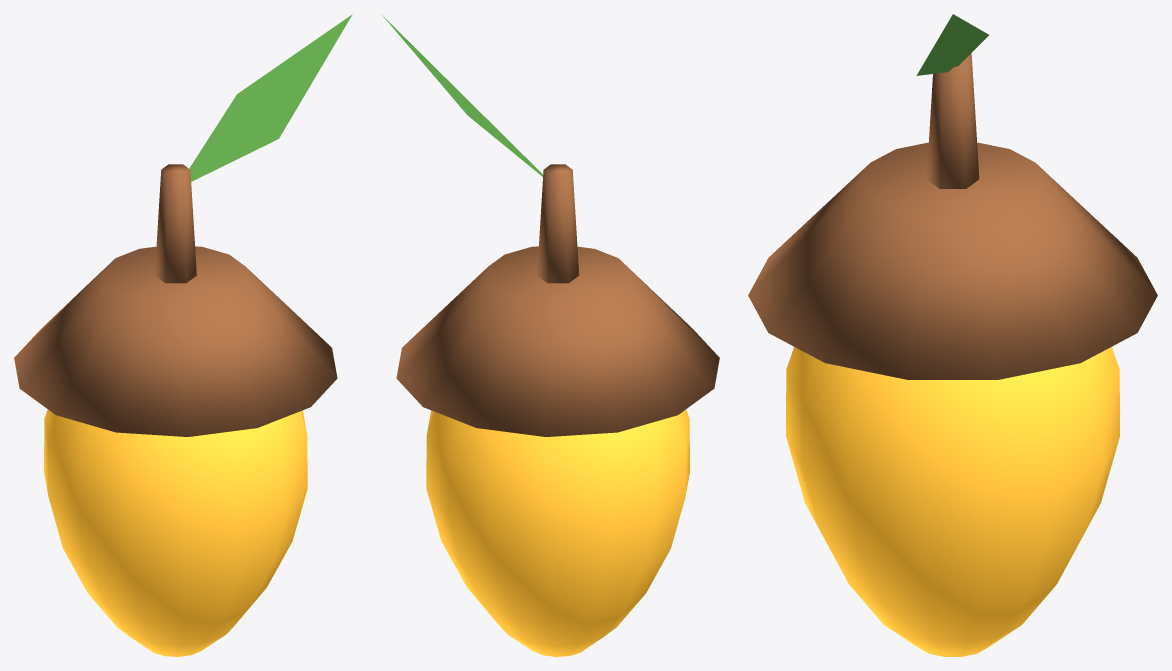
File: golden_seed.glb
3 views of the same model, side by side, from view 1: azimuth 30°, elevation 25°; view 2: azimuth 150°, elevation 25°; view 3: azimuth 270°, elevation 25° (orthographic). The views are drawn at different scales.
Visible parts, largest first — view 1: Seed_Body, Seed_Cap, Seed_Leaf; view 2: Seed_Body, Seed_Cap, Seed_Leaf; view 3: Seed_Body, Seed_Cap, Seed_Leaf.
Boxes of the visible parts, x1=… form: Seed_Body: x1=44, y1=409, x2=307, y2=656; Seed_Cap: x1=14, y1=164, x2=337, y2=436; Seed_Leaf: x1=189, y1=14, x2=352, y2=181; Seed_Body: x1=426, y1=409, x2=689, y2=656; Seed_Cap: x1=396, y1=164, x2=719, y2=436; Seed_Leaf: x1=382, y1=15, x2=543, y2=176; Seed_Body: x1=786, y1=347, x2=1119, y2=656; Seed_Cap: x1=748, y1=53, x2=1157, y2=379; Seed_Leaf: x1=916, y1=14, x2=988, y2=75.
Bounding box in the file's own units: 0.2492 × 0.45 × 0.224.
